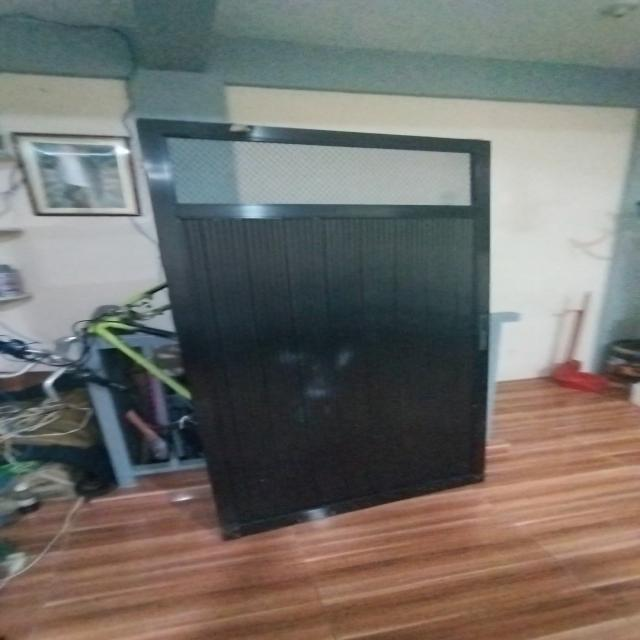door: (129, 115, 508, 525)
